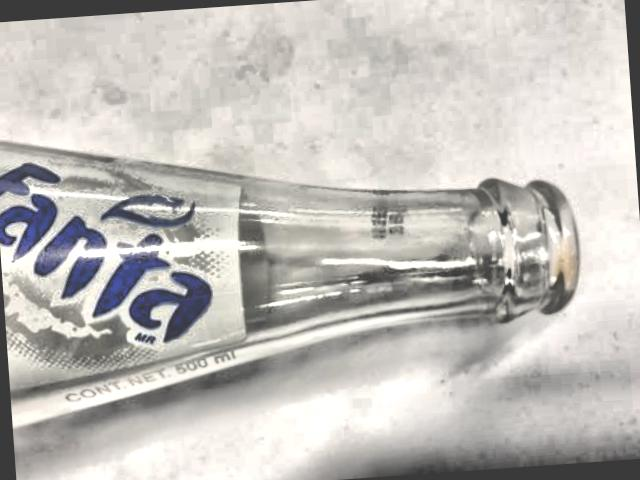Bottles: (0, 77, 619, 452)
